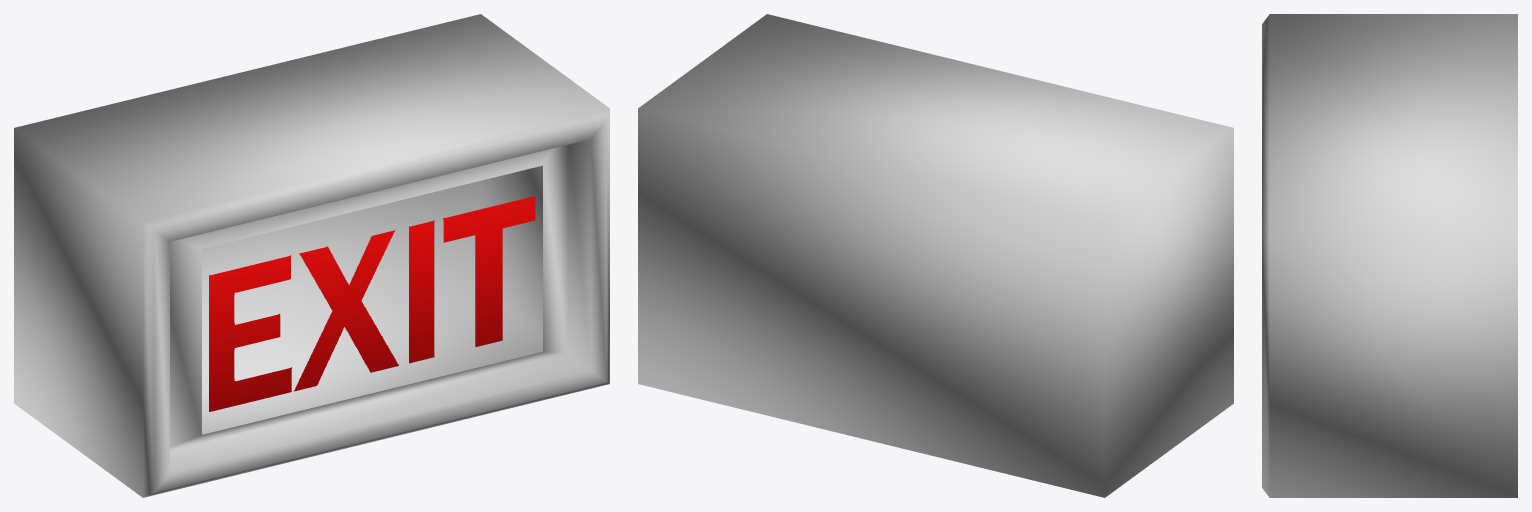
File: ExitSign.fbx
3 views of the same model, side by side, from view 1: azimuth 30°, elevation 25°; view 2: azimuth 150°, elevation 25°; view 3: azimuth 270°, elevation 25° (orthographic). The views are drawn at different scales.
Visible parts, largest first — view 1: Exit; view 2: Exit; view 3: Exit.
Boxes of the visible parts, x1,y1,x2,y2 form: Exit: [14, 14, 609, 497]; Exit: [638, 14, 1233, 497]; Exit: [1262, 14, 1517, 497].
Bounding box in the file's own units: 355 × 200 × 175.
Materials: 2 (1 with a texture image).
